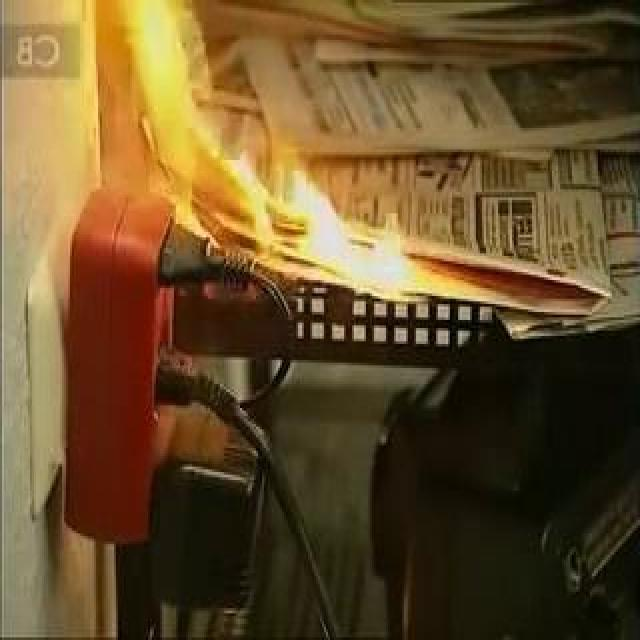Fire: (97, 3, 407, 312)
